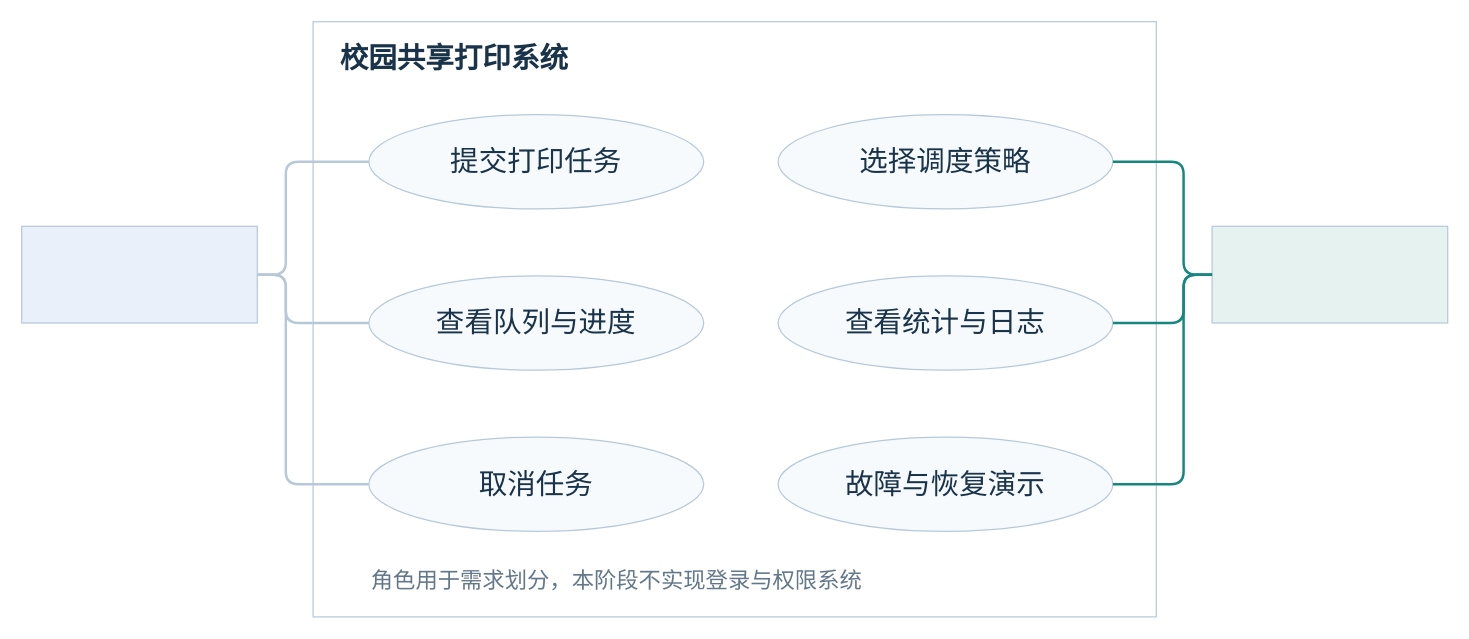
Some shapes in this 1469 by 639 pixel diagram are drawn without their labels. Here are the shapes that lost their labels. From the top down, the box of each, then its label:
(20, 225, 257, 323): «actor» 提交者
(1211, 225, 1448, 323): «actor» 演示操作员
